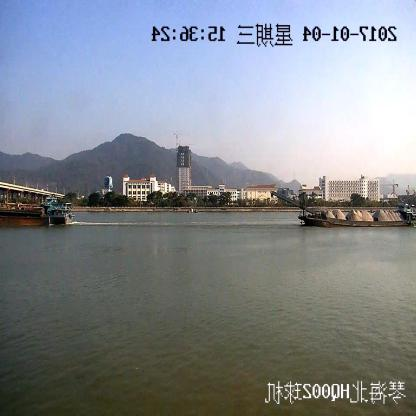Bulk Carrier: (0, 203, 72, 226)
